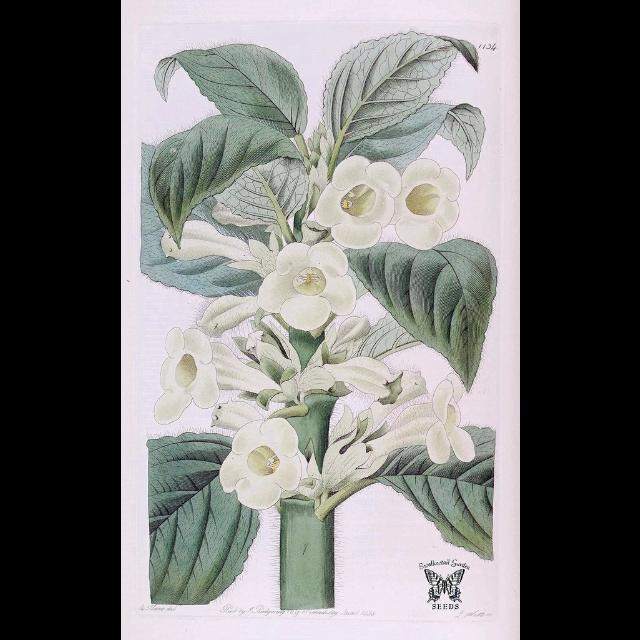Flower: (314, 364, 468, 490), (146, 329, 274, 427), (252, 240, 360, 336), (223, 414, 309, 516), (307, 158, 403, 246), (382, 160, 466, 248), (164, 216, 276, 268), (244, 318, 302, 404), (338, 354, 414, 404), (188, 286, 248, 336)
